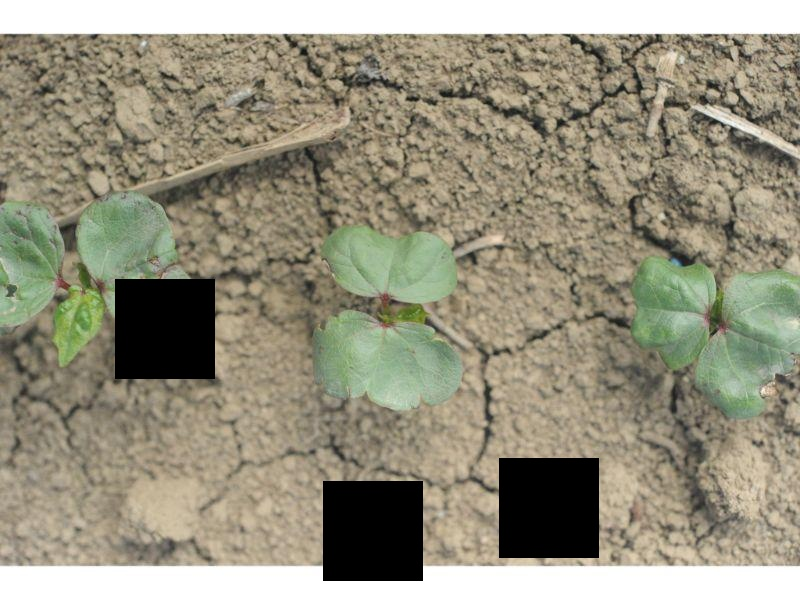cotton: (0, 192, 189, 368), (309, 222, 464, 413), (627, 256, 800, 421)
